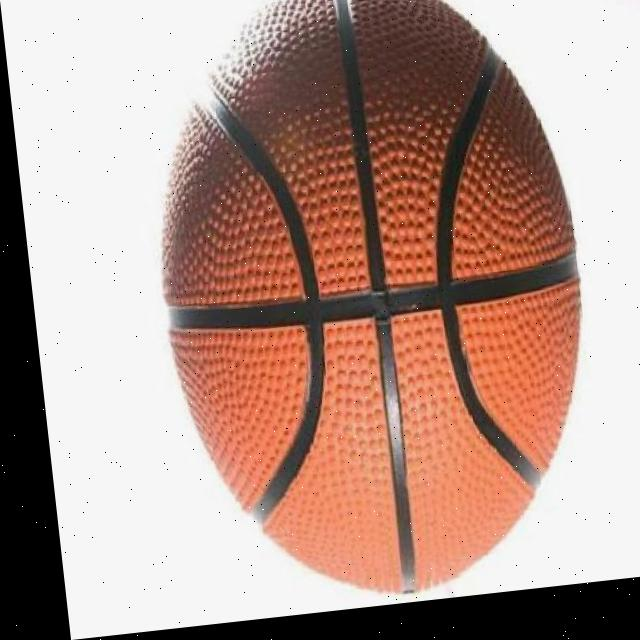Basketball: (131, 0, 618, 616)
